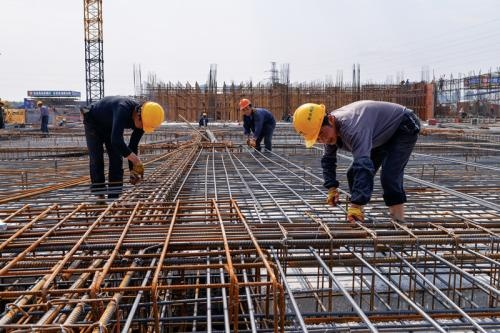red: (236, 96, 254, 115)
yellow: (289, 98, 339, 148), (131, 98, 166, 136)
